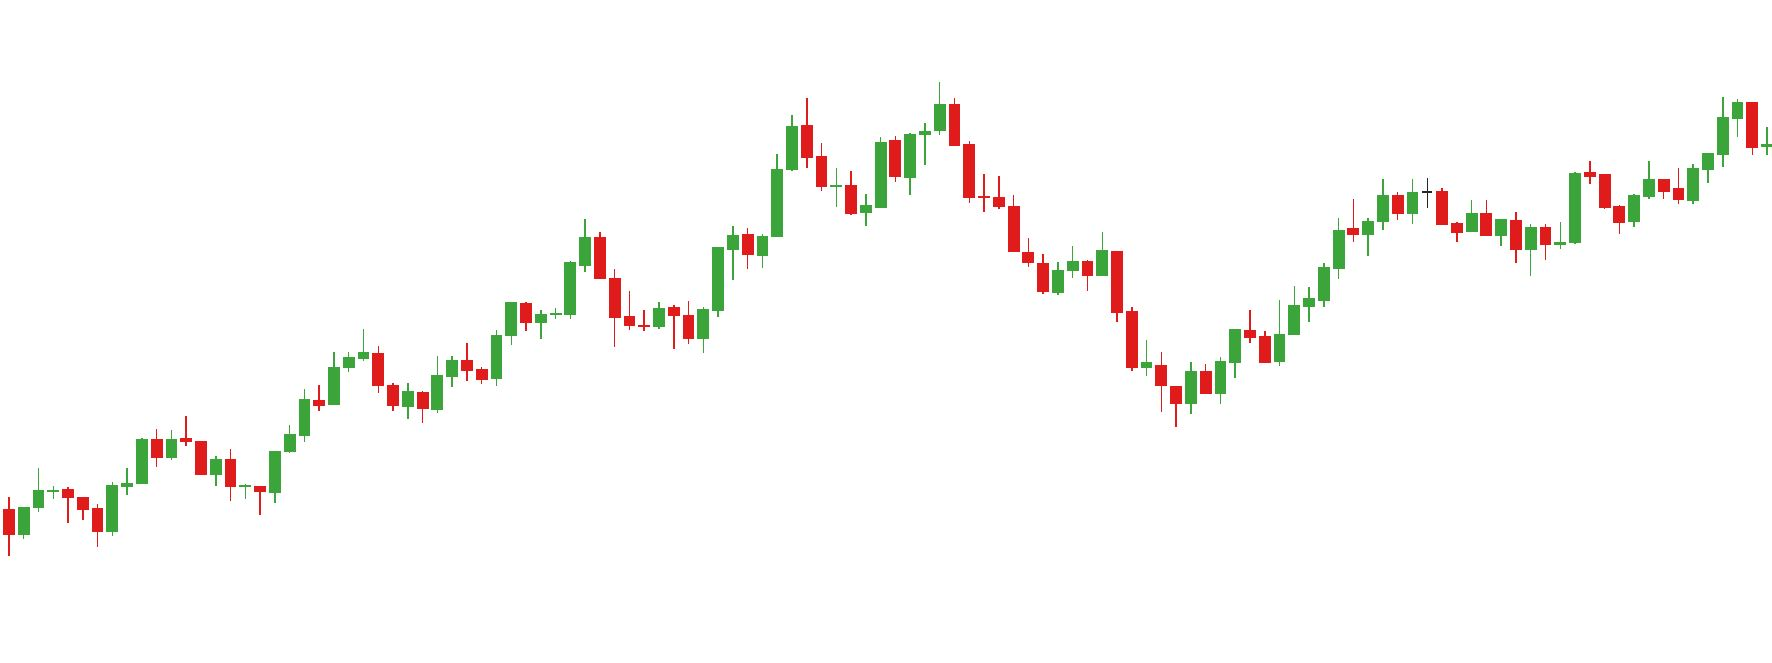sell: (801, 82, 962, 183)
